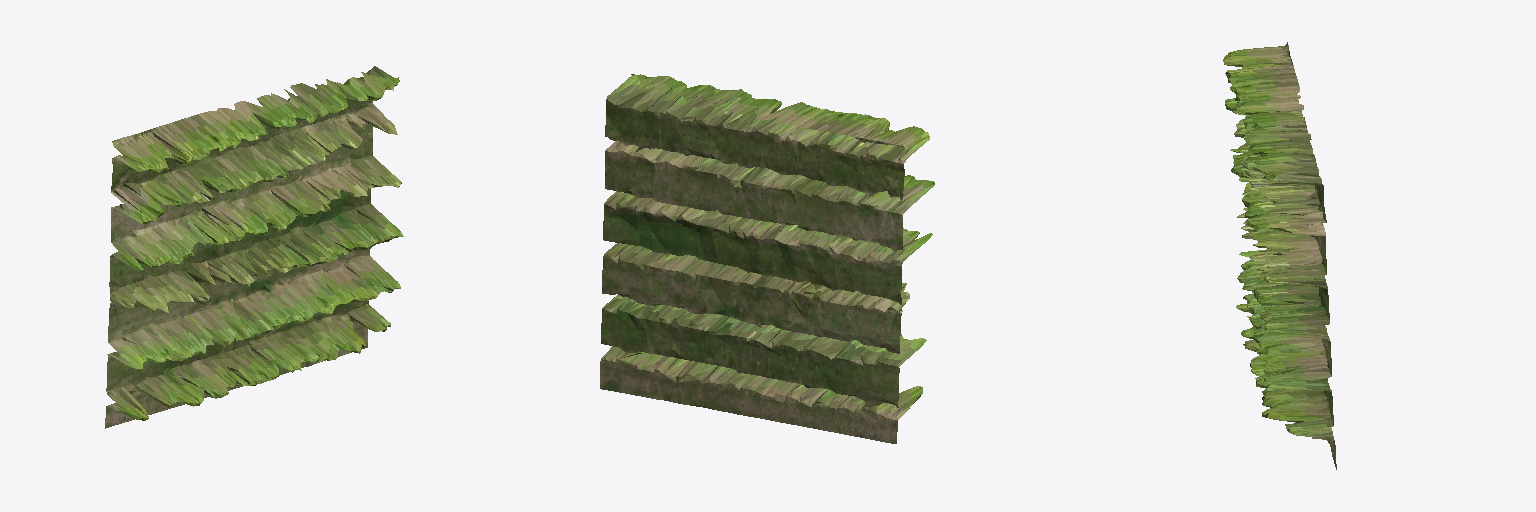
3 renders of one model, left to right at view 1: azimuth 30°, elevation 25°; view 2: azimuth 150°, elevation 25°; view 3: azimuth 270°, elevation 25°, orthographic.
Parts seen in each view (by area): view 1: grp1; view 2: grp1; view 3: grp1.
Boxes of the visible parts, box(x1,y1,x2,y2) form: grp1: box(105, 66, 403, 428); grp1: box(600, 74, 934, 443); grp1: box(1223, 42, 1336, 469).
Size of the model in its own units: 10 by 10 by 3.51.
Materials: 1 (1 with a texture image).